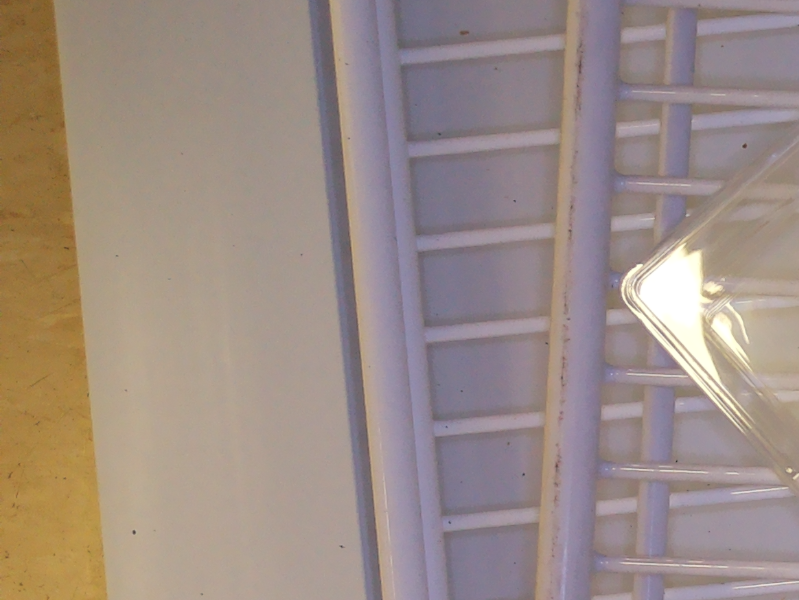plate: (620, 125, 799, 523)
